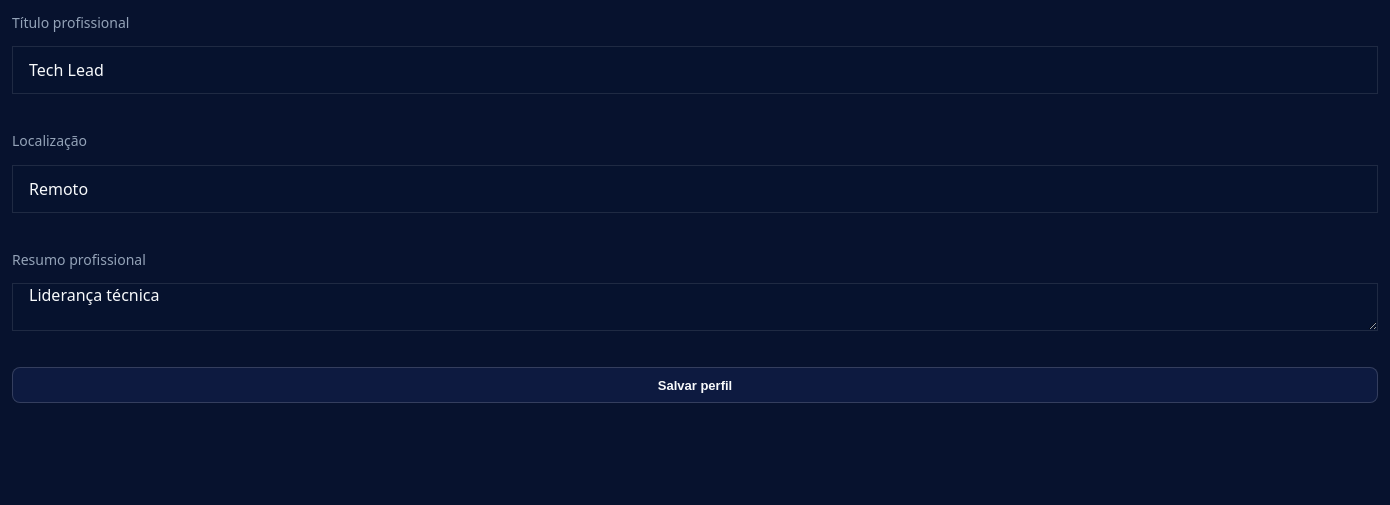
Test: CandidateProfileForm — Edição de Perfil do Candidato › submete formulário e exibe feedback de sucesso quando ação retorna sucesso
This screenshot has width=1390, height=505.
What coordinates should you click on to do the following:
click the button "Salvar perfil"
I would click on:
 (695, 385)
Its box is [12, 367, 1378, 403].
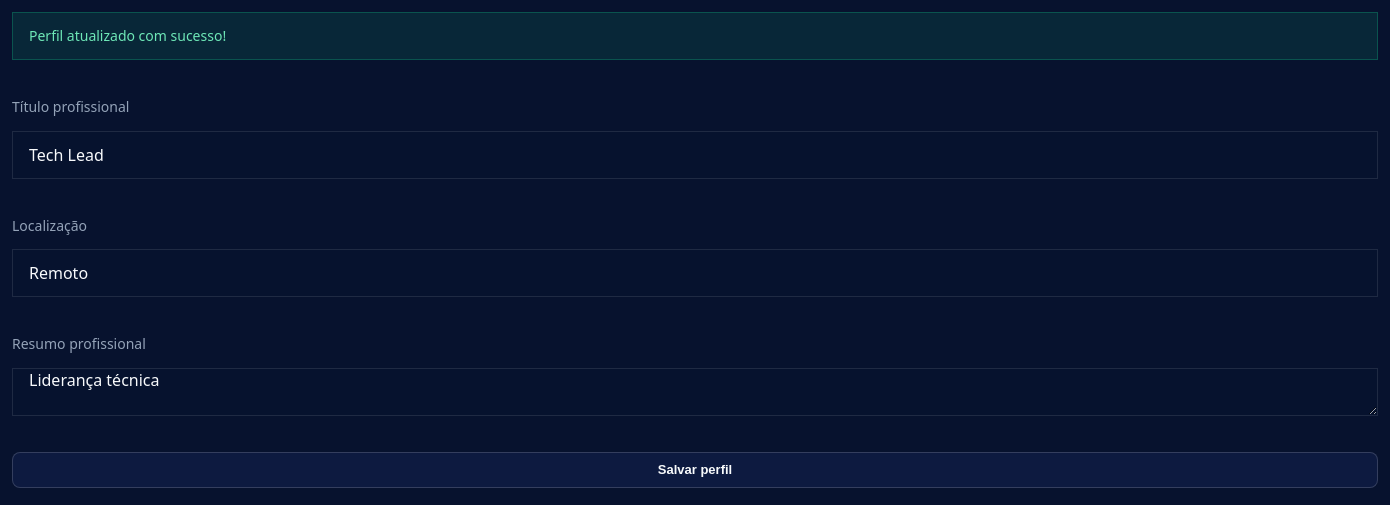
Expected: the text "Perfil atualizado com sucesso!" is shown, [12, 12, 1378, 60]
